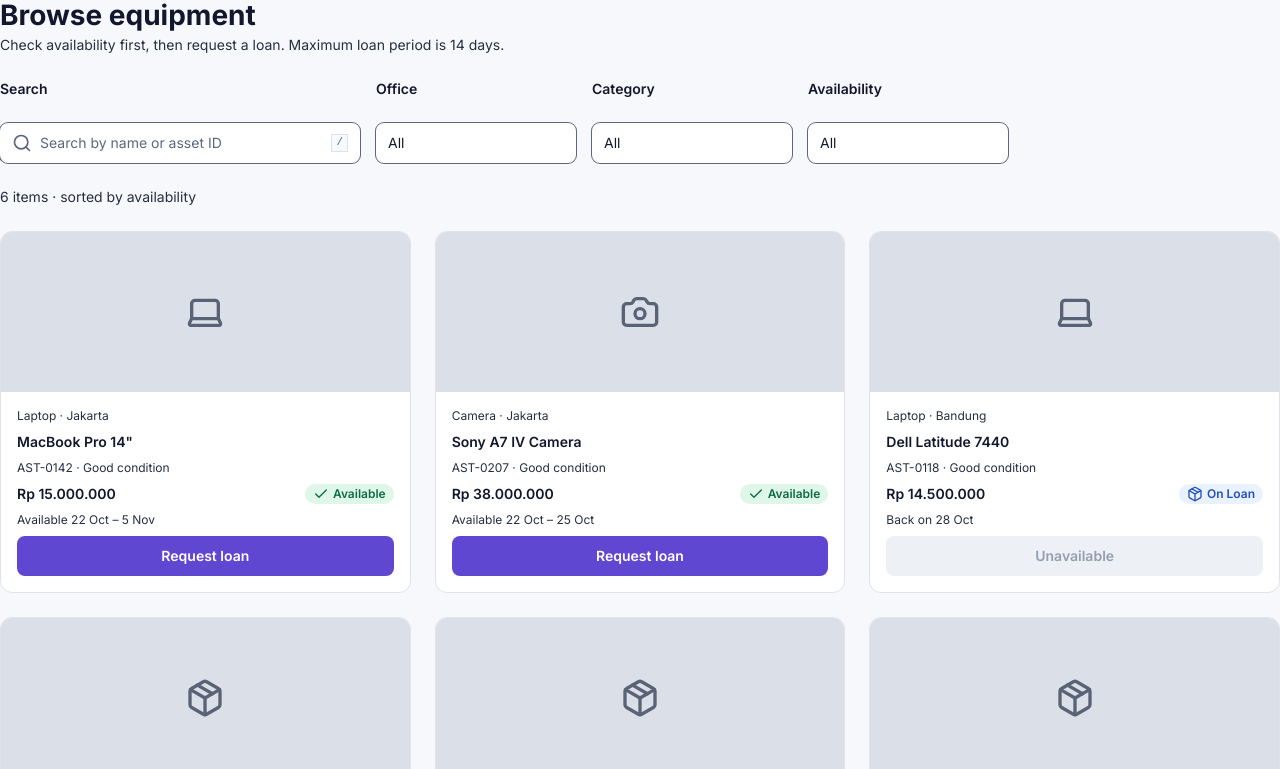
Test: CatalogueClient › confirms a request with the success alert
What coordinates should you click on to do the following:
click the button "Request loan" below "Rp 15.000.000"
I would click on:
 (205, 556)
Its box is [17,536,394,576].
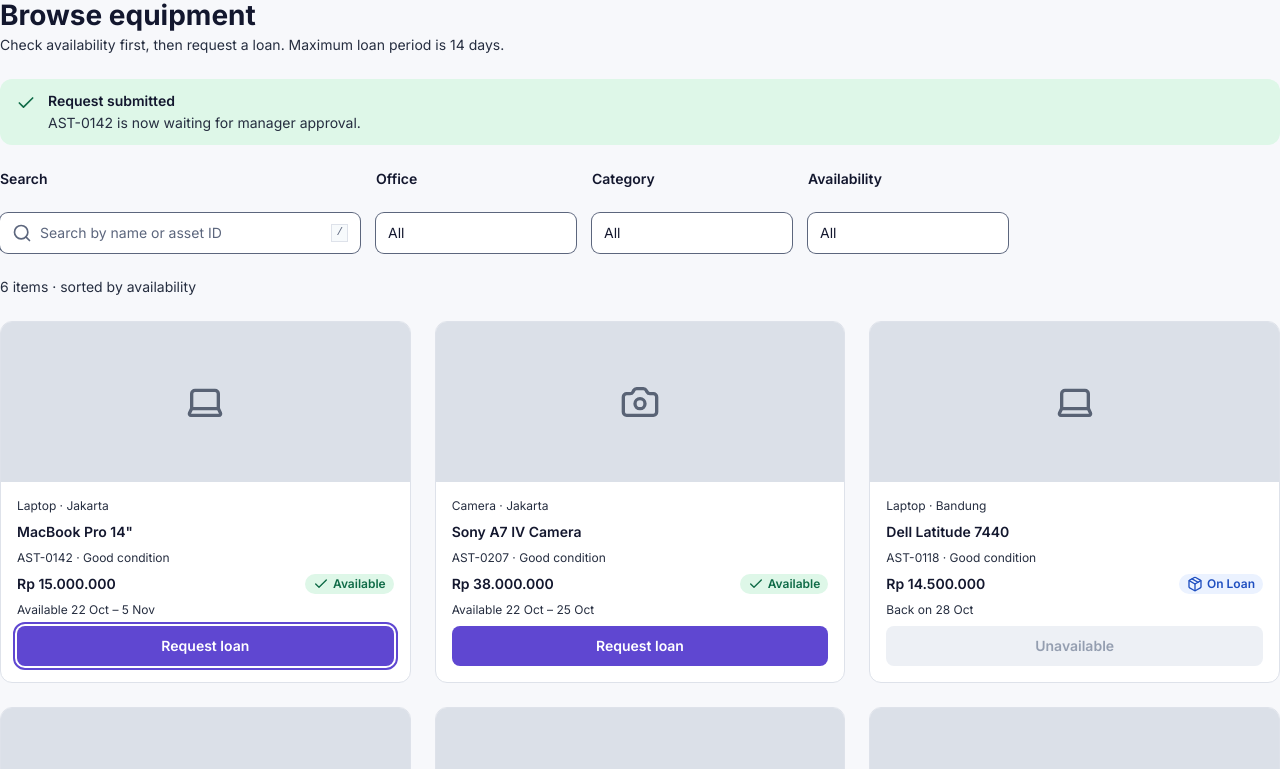
Check: the text "Request submitted" is shown, box [48,92,175,109]
Check: the text "AST-0142 is now waiting for manager approval." is shown, box [48,113,361,133]
